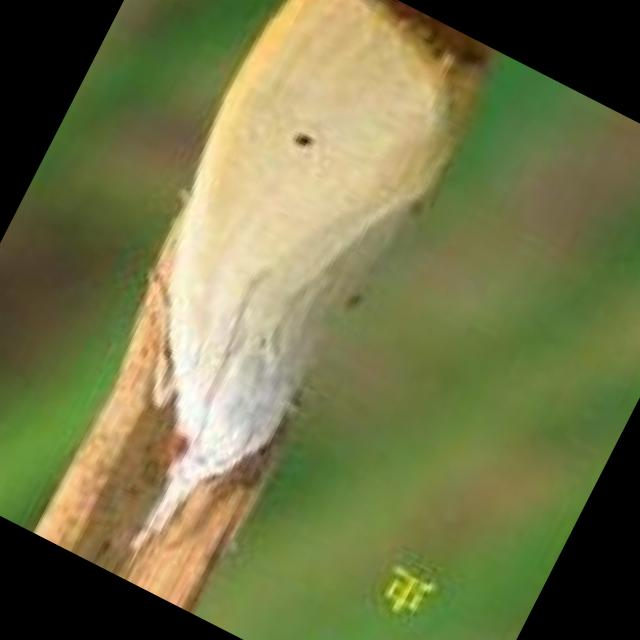stem-borer: (17, 0, 502, 601)
